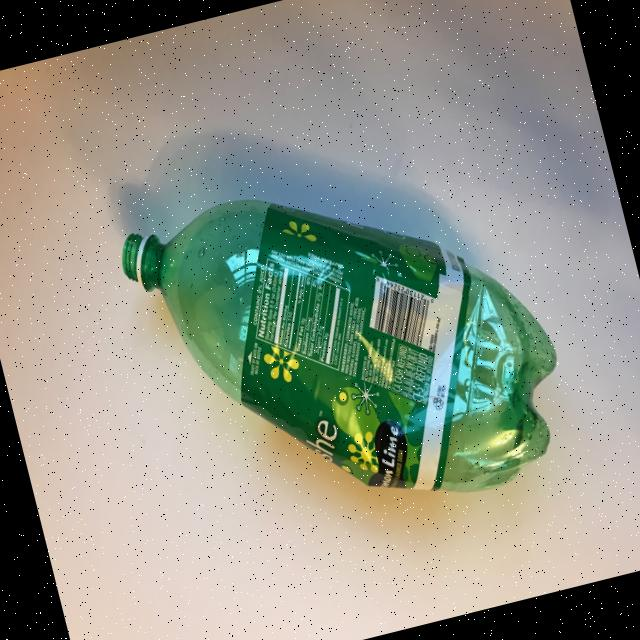plastic: (112, 131, 584, 563)
